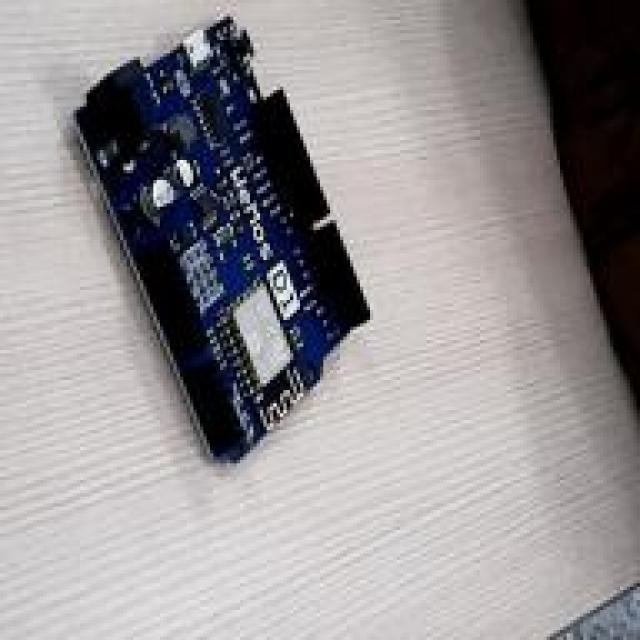Wemos: (78, 18, 368, 458)
